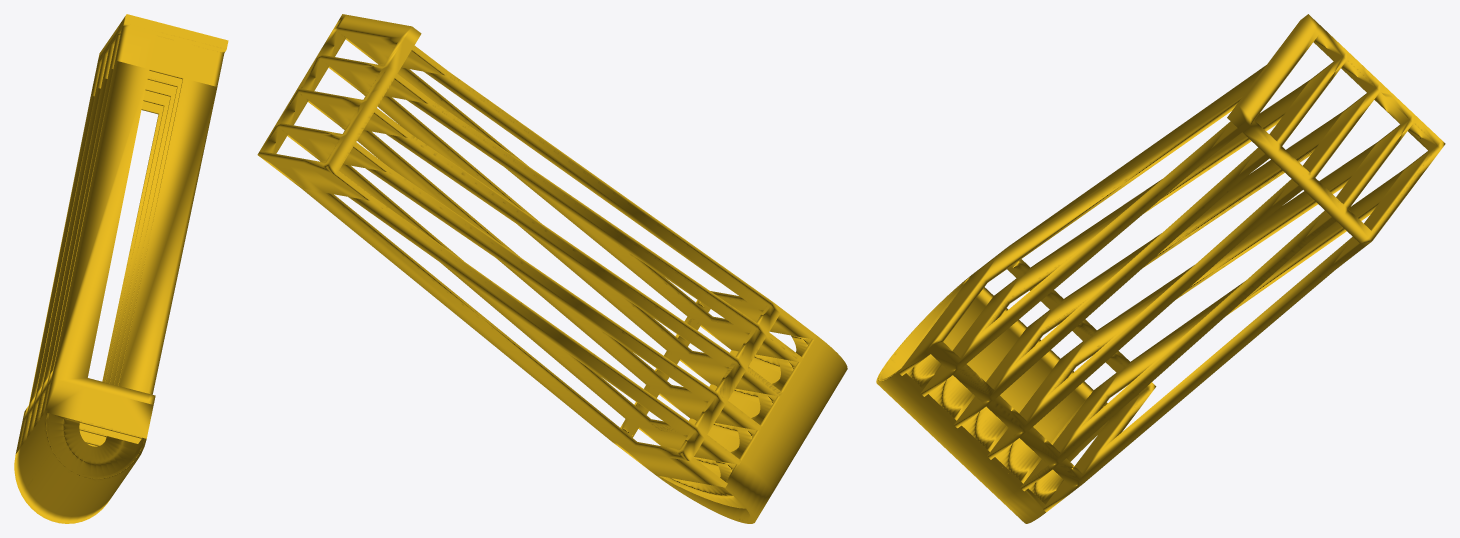
File: parkingdeckedit1.glb
3 renders of one model, left to right at view 1: azimuth 30°, elevation 25°; view 2: azimuth 150°, elevation 25°; view 3: azimuth 270°, elevation 25°, orthographic. The views are drawn at different scales.
Parts seen in each view (by area): view 1: node_id7; view 2: node_id7; view 3: node_id7.
Boxes of the visible parts, box(x1,y1,x2,y2) form: node_id7: box(14, 14, 228, 523); node_id7: box(257, 14, 847, 523); node_id7: box(876, 14, 1445, 523).
Size of the model in its own units: 1.1 by 1.44 by 1.22.
Materials: 2 (2 with a texture image).
